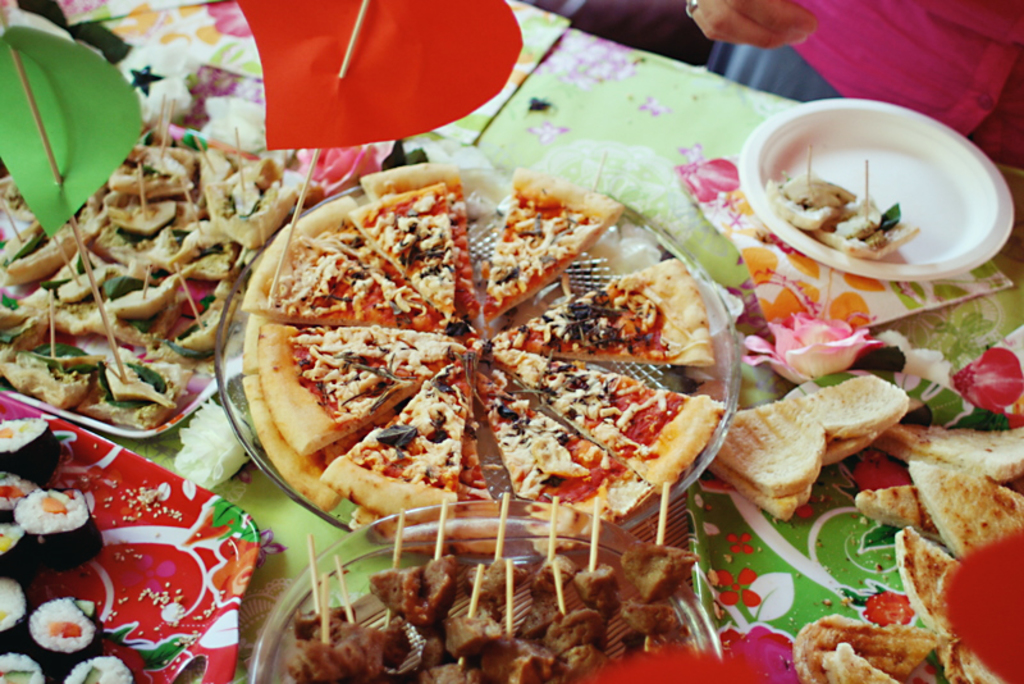Pizza: (238, 144, 723, 586)
